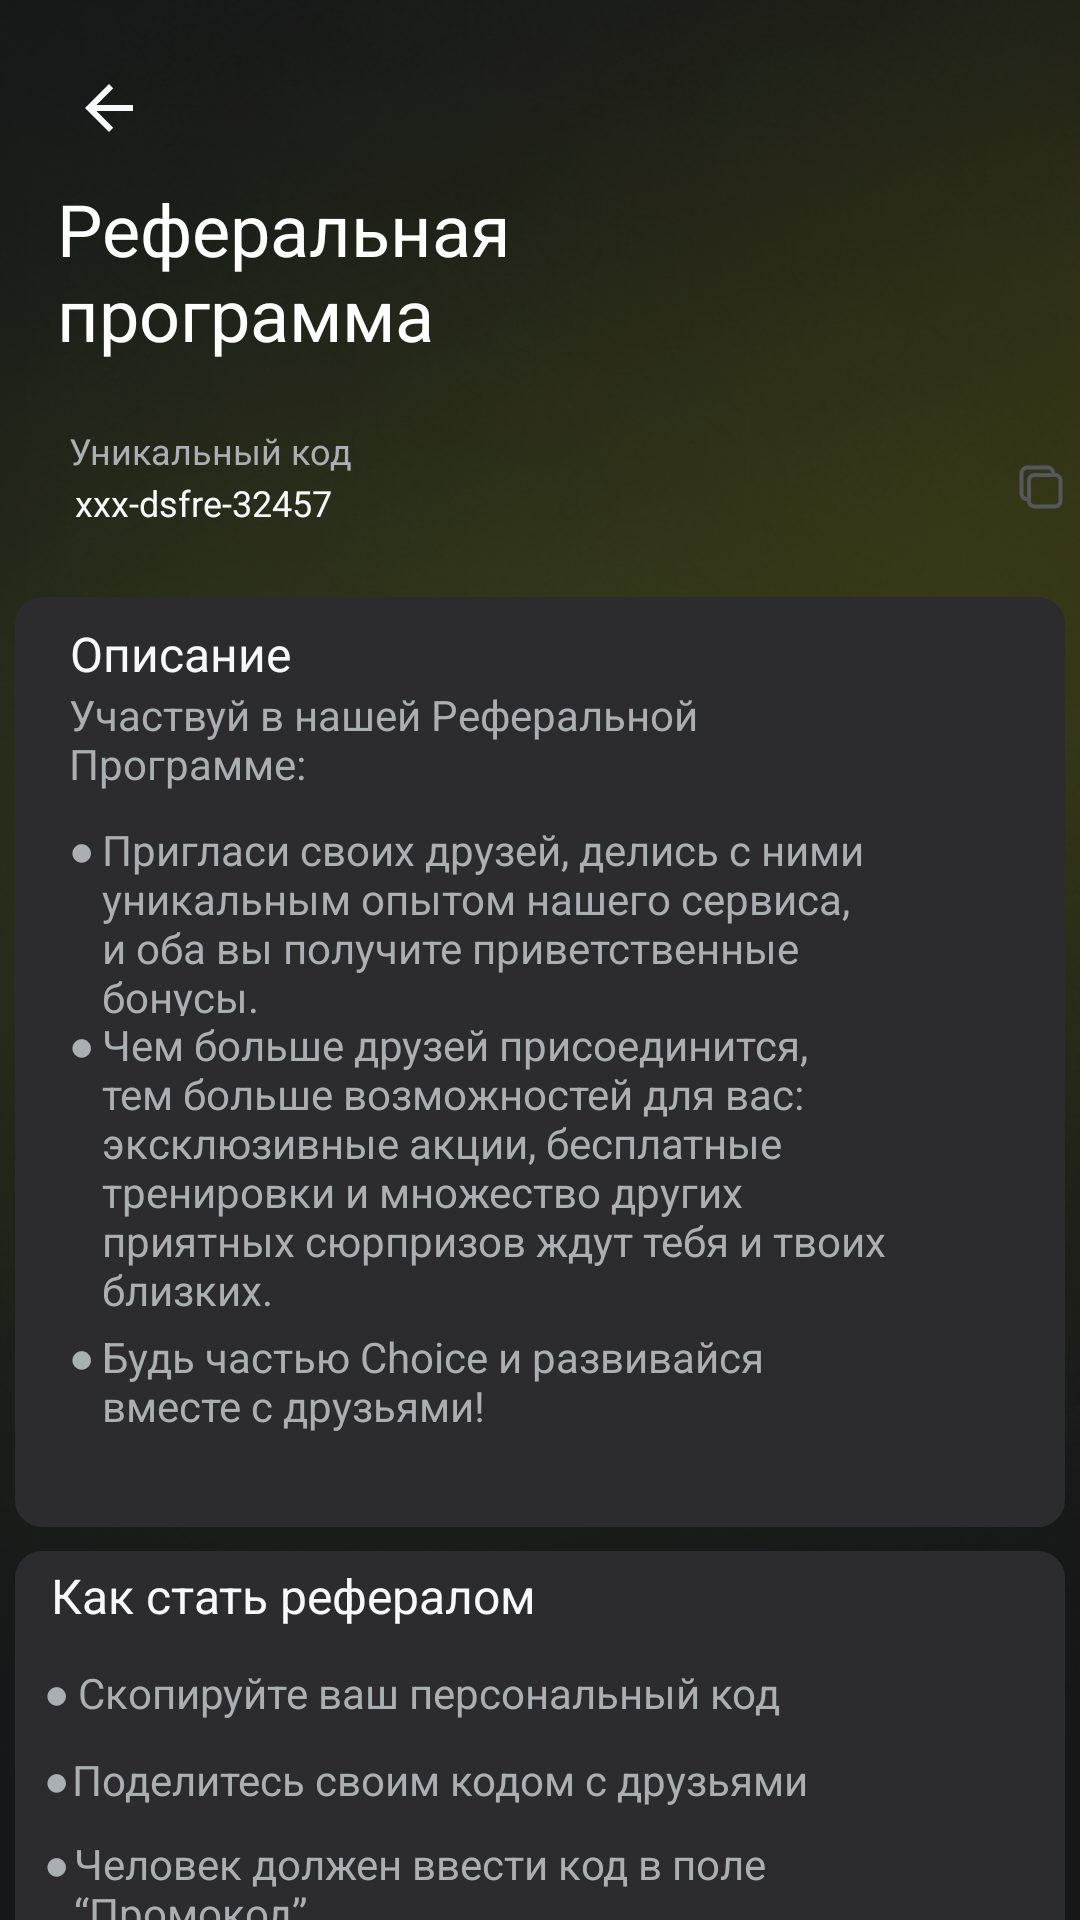

Icons on this 1080*1920 Android screen, each with its box as [x1=x1, y1=y1, x2=x2, y2=y2]:
iconbackvector: [x1=85, y1=84, x2=133, y2=132]
